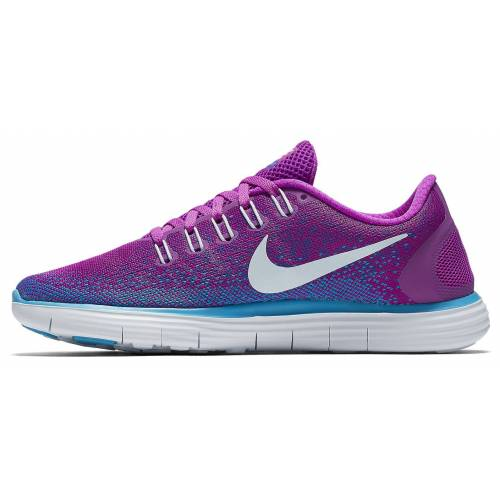nike: (244, 227, 413, 297)
